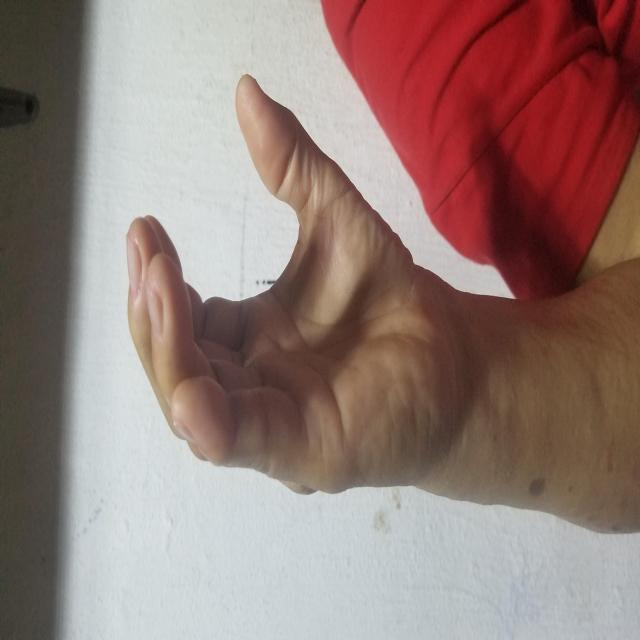C: (87, 59, 500, 556)
